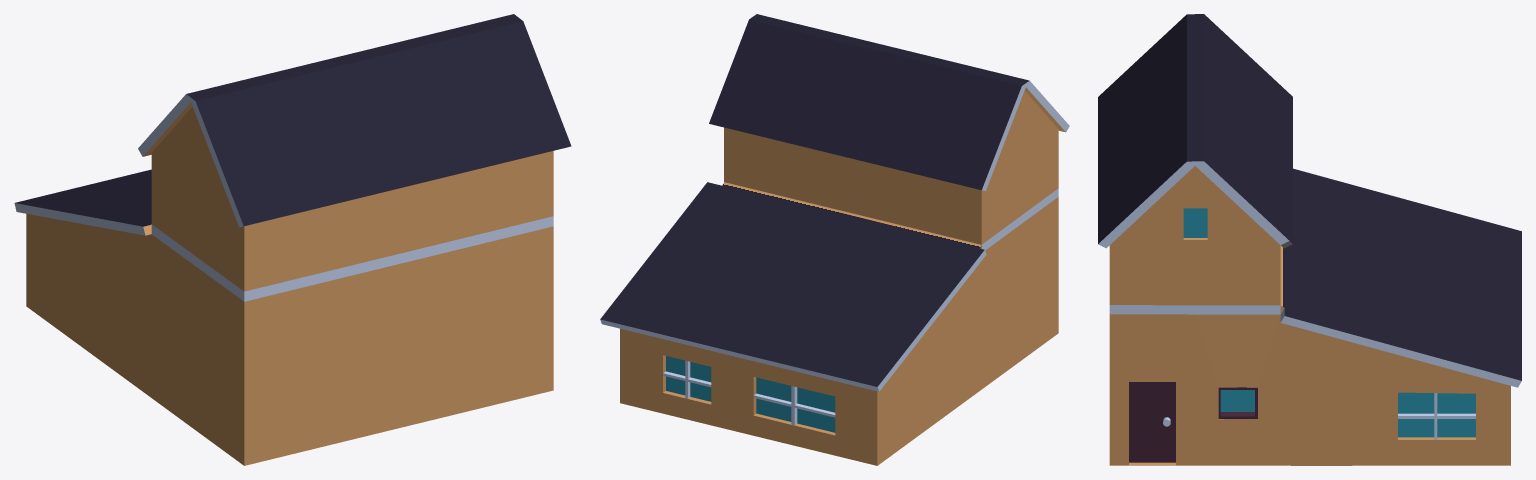
Rendered from house2.fbx.
3 renders of one model, left to right at view 1: azimuth 30°, elevation 25°; view 2: azimuth 150°, elevation 25°; view 3: azimuth 270°, elevation 25°, orthographic. The views are drawn at different scales.
Parts seen in each view (by area): view 1: Cube.004; view 2: Cube.004; view 3: Cube.004.
Boxes of the visible parts, left/top/right/bottom form: Cube.004: left=14, top=14, right=571, bottom=465; Cube.004: left=600, top=14, right=1069, bottom=465; Cube.004: left=1098, top=14, right=1521, bottom=465.
Bounding box in the file's own units: 2131 × 2052 × 2543.
